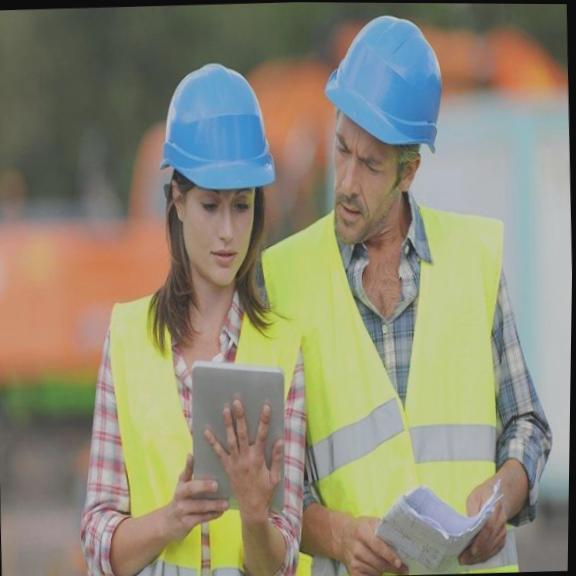safety_vest: (266, 199, 561, 576), (75, 280, 324, 576)
